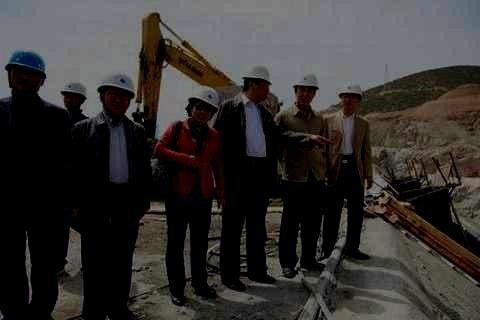helmet: (4, 48, 46, 97), (96, 69, 136, 115), (186, 84, 219, 125), (241, 64, 272, 103), (292, 70, 319, 106), (59, 78, 87, 111), (338, 79, 363, 112)
